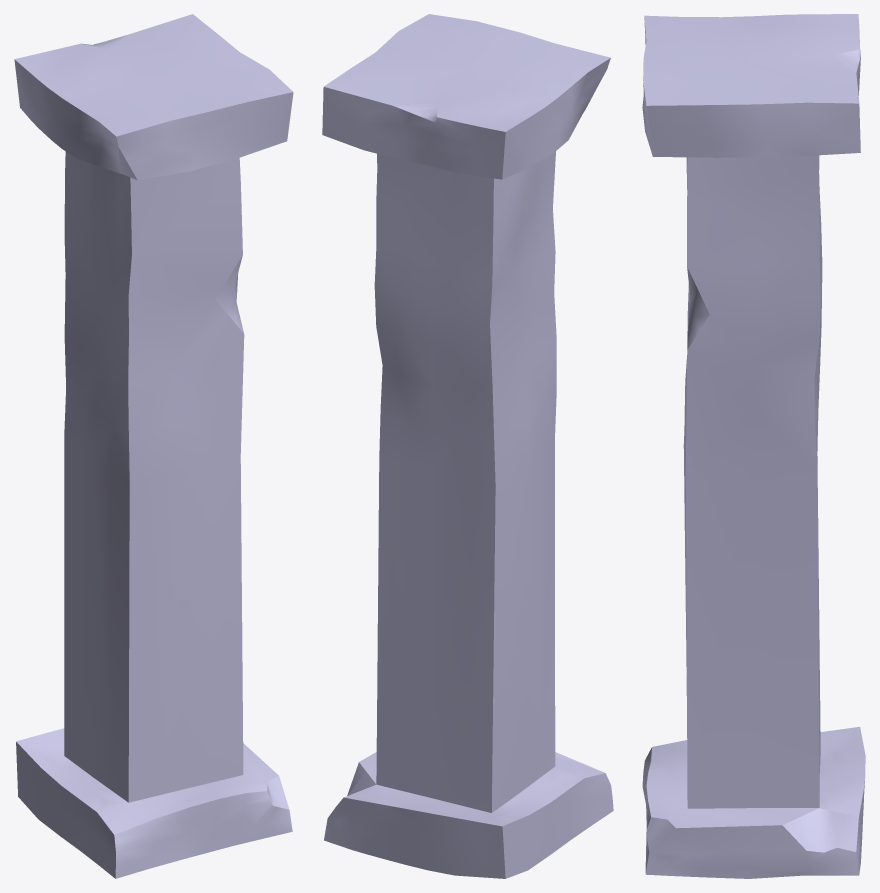
The model's file is Column2.glb.
3 views of the same model, side by side, from view 1: azimuth 30°, elevation 25°; view 2: azimuth 150°, elevation 25°; view 3: azimuth 270°, elevation 25° (orthographic). The views are drawn at different scales.
Visible parts, largest first — view 1: Box019; view 2: Box019; view 3: Box019.
Part boxes in pixels (<box>): Box019: <box>14,14,293,878</box>; Box019: <box>322,14,613,878</box>; Box019: <box>642,14,865,878</box>.
Bounding box in the file's own units: 0.4433 × 1.72 × 0.4481.
